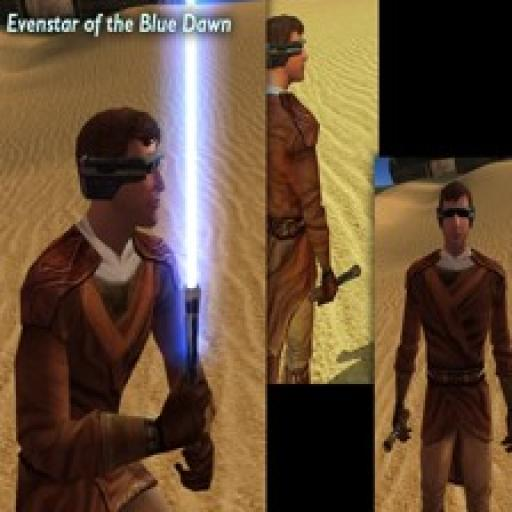human: (15, 107, 219, 512)
lightsaber: (182, 0, 206, 400), (309, 263, 366, 304), (384, 409, 419, 452)
